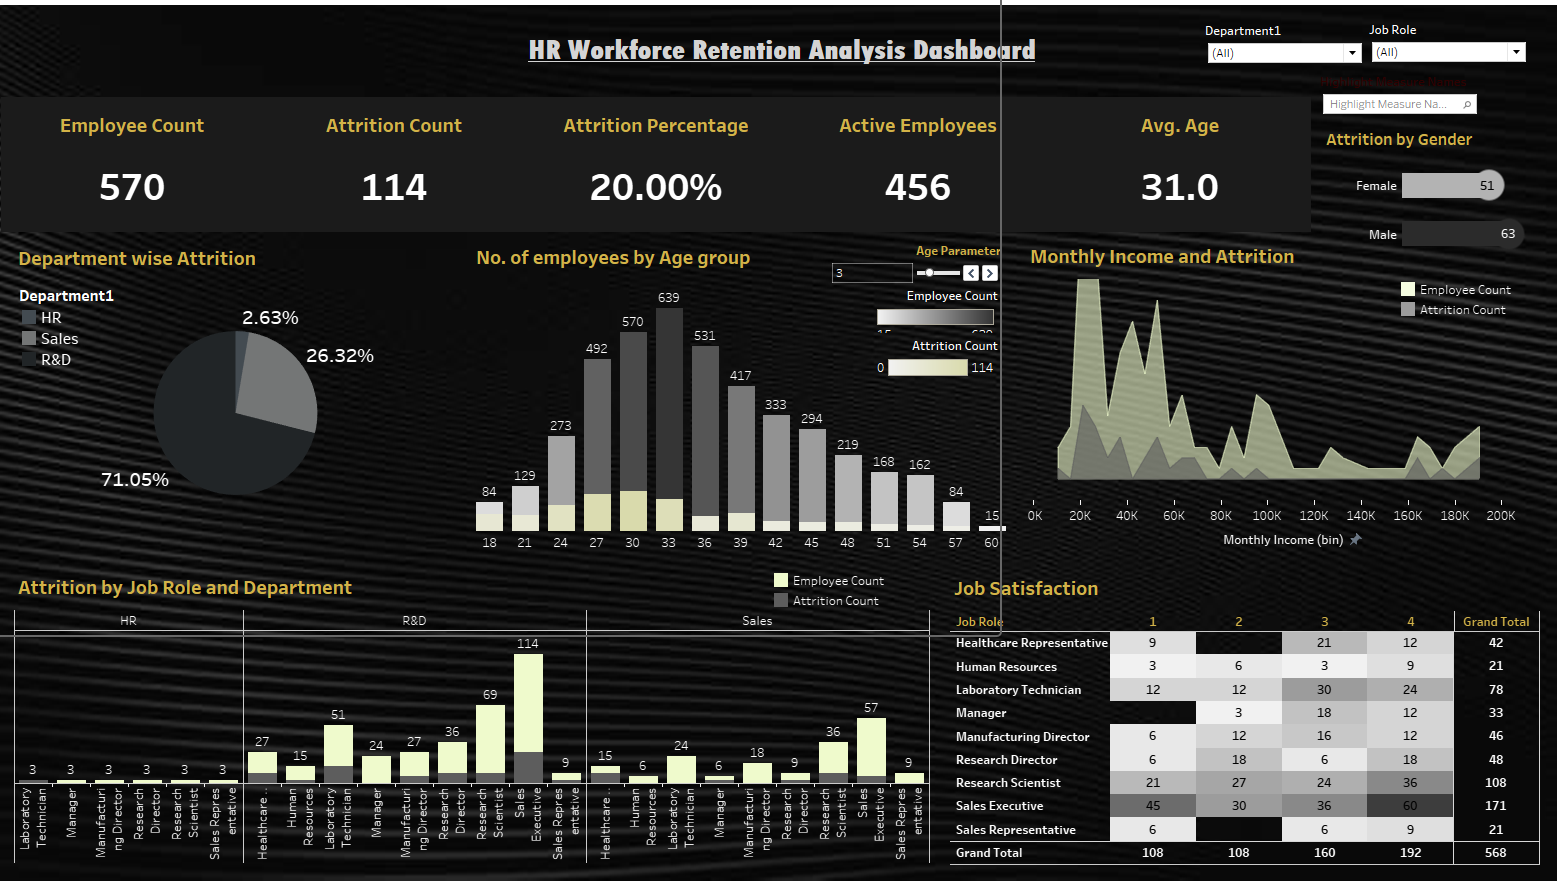

Layout of this report page (visuals, bound fields, positions):
{"tool":"tableau","page":{"name":"HR Attrition Analysis Dashboard","canvas":[1600,900],"ordinal":0},"visuals":[{"type":"image","param":"Image/istockphoto-[number redacted]-612x612.jpg","box":[8,8,1584,884]},{"type":"filter","title":"No. of employees by Age group","param":"[federated.1wcdvvu17jkr3w10as24111wzadr].[none:JobRole:nk]","box":[1391,28,160,55]},{"type":"filter","title":"No. of employees by Age group","param":"[federated.1wcdvvu17jkr3w10as24111wzadr].[none:Department:nk]","box":[1227,29,160,51]},{"type":"text","box":[470,34,596,52]},{"type":"highlighter","title":"KPI","param":"[federated.1wcdvvu17jkr3w10as24111wzadr].[:Measure Names]","box":[1342,80,160,300]},{"type":"worksheet","title":"KPI","mark":"Automatic","box":[23,104,1310,135]},{"type":"worksheet","title":"Attrition by Gender","mark":"Bar","rows":["Gender"],"cols":["Calculation_1216816388371283968","Calculation_1216816388371283968"],"box":[1344,131,209,134]},{"type":"worksheet","title":"Income area plot","mark":"Area","rows":["EmployeeCount","Calculation_1216816388371283968"],"cols":["Monthly Income (bin)"],"box":[1048,245,515,317]},{"type":"worksheet","title":"No. of employees by Age group","mark":"Bar","rows":["EmployeeCount","Calculation_1216816388371283968"],"cols":["Age (bin)"],"box":[494,246,538,313]},{"type":"worksheet","title":"Department wise Attrition","mark":"Pie","box":[36,247,443,305]},{"type":"parameter","param":"[Parameters].[Age (bin) Parameter]","box":[851,249,172,57]},{"type":"legend","title":"Income area plot","param":"[federated.1wcdvvu17jkr3w10as24111wzadr].[:Measure Names]","box":[1420,286,141,64]},{"type":"legend","title":"Department wise Attrition","param":"[federated.1wcdvvu17jkr3w10as24111wzadr].[none:Department:nk]","box":[41,292,131,107]},{"type":"legend","title":"No. of employees by Age group","param":"[federated.1wcdvvu17jkr3w10as24111wzadr].[sum:EmployeeCount:qk]","box":[895,294,125,46]},{"type":"legend","title":"No. of employees by Age group","param":"[federated.1wcdvvu17jkr3w10as24111wzadr].[sum:Calculation_1216816388371283968:qk","box":[895,344,125,47]},{"type":"worksheet","title":"Job role w department","mark":"Bar","rows":["EmployeeCount","Calculation_1216816388371283968"],"cols":["Department","JobRole"],"box":[36,576,916,295]},{"type":"legend","title":"Job role w department","param":"[federated.1wcdvvu17jkr3w10as24111wzadr].[:Measure Names]","box":[793,577,158,44]},{"type":"worksheet","title":"Job Satisfaction","mark":"Square","rows":["JobRole"],"cols":["JobSatisfaction"],"box":[972,577,591,295]}]}

Visuals, with their boxes in screenshot pixels (x1, y1, x2, y2), scaled from the page's 1600x900 canvas onto the 1557x885 screenshot:
image: crop(8, 8, 1549, 877)
"No. of employees by Age group" filter: crop(1354, 28, 1509, 82)
"No. of employees by Age group" filter: crop(1194, 29, 1350, 79)
text: crop(457, 33, 1037, 85)
"KPI" highlighter: crop(1306, 79, 1462, 374)
"KPI" worksheet: crop(22, 102, 1297, 235)
"Attrition by Gender" worksheet (Bar marks): crop(1308, 129, 1511, 261)
"Income area plot" worksheet (Area marks): crop(1020, 241, 1521, 553)
"No. of employees by Age group" worksheet (Bar marks): crop(481, 242, 1004, 550)
"Department wise Attrition" worksheet (Pie marks): crop(35, 243, 466, 543)
parameter: crop(828, 245, 996, 301)
"Income area plot" legend: crop(1382, 281, 1519, 344)
"Department wise Attrition" legend: crop(40, 287, 167, 392)
"No. of employees by Age group" legend: crop(871, 289, 993, 334)
"No. of employees by Age group" legend: crop(871, 338, 993, 384)
"Job role w department" worksheet (Bar marks): crop(35, 566, 926, 856)
"Job role w department" legend: crop(772, 567, 925, 611)
"Job Satisfaction" worksheet (Square marks): crop(946, 567, 1521, 857)
